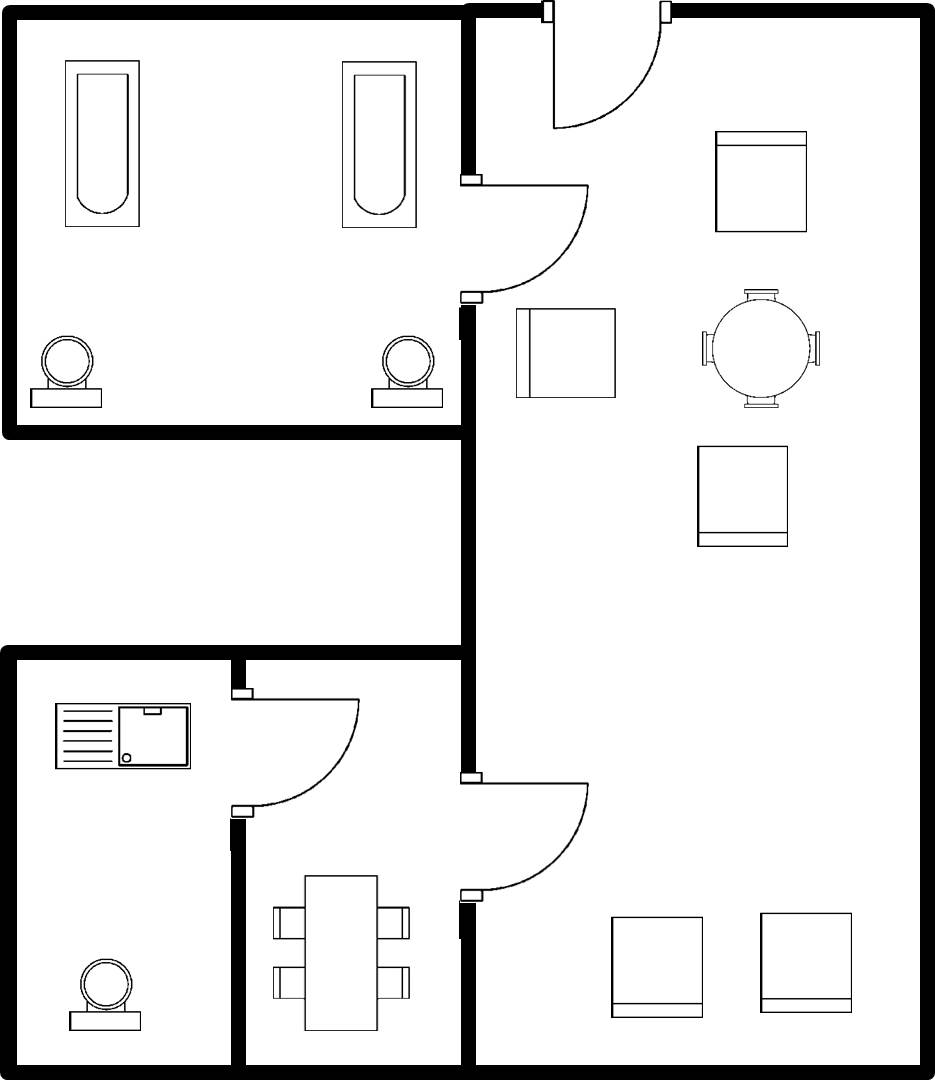dining_table: (263, 864, 421, 1042)
large_sink: (61, 952, 149, 1041), (362, 328, 451, 414), (26, 329, 111, 416)
round_table: (690, 280, 831, 419)
sink: (46, 695, 198, 780)
small_sofa: (706, 119, 816, 243), (686, 437, 800, 554), (602, 909, 711, 1029), (505, 299, 626, 404), (750, 905, 860, 1020)
tub: (334, 51, 426, 236), (56, 53, 147, 234)
